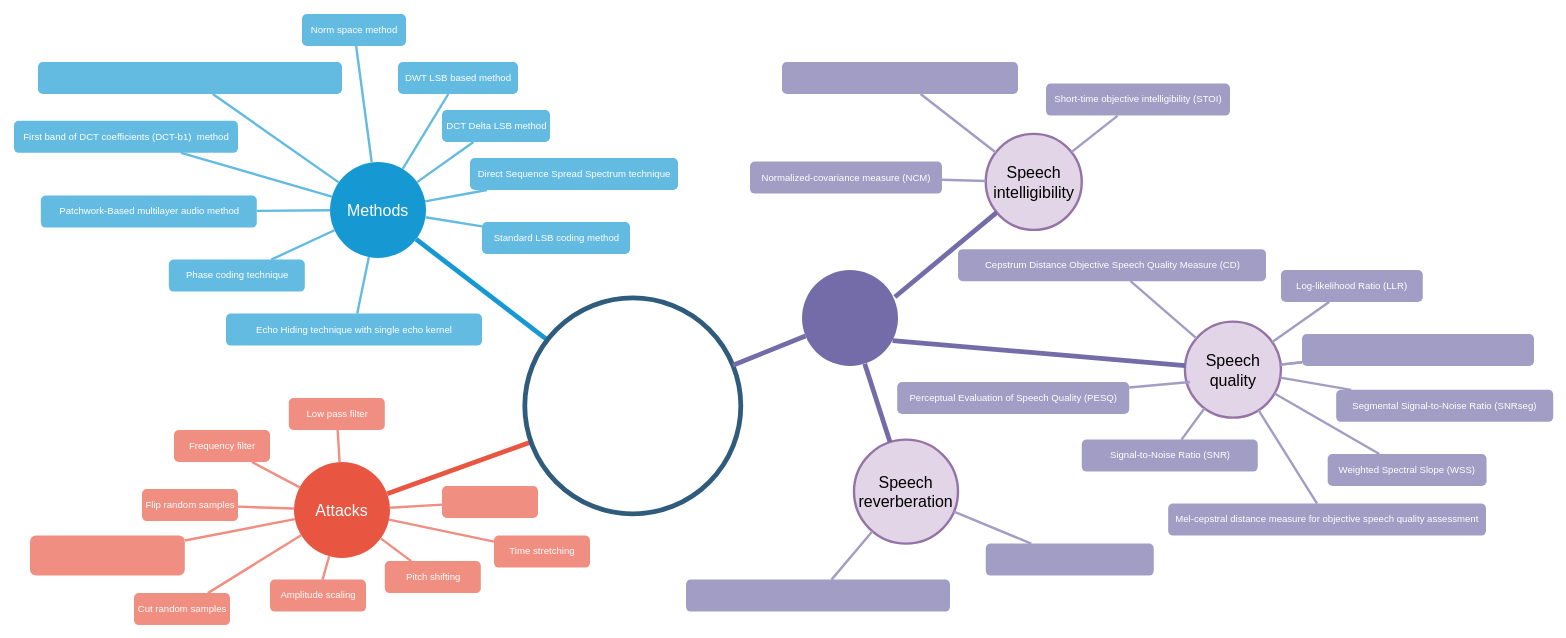
The diagram is 1566 pixels wide and 638 high, and some of its shapes have lost their labels. The box of each missing label's shape, as (x1, y1, x2, y2) in pixels:
Additive noise: (442, 486, 538, 518)
Bark spectral distortion (BSD): (985, 543, 1153, 575)
Coherence and speech intelligibility index (CSII): (782, 62, 1018, 94)
Frequency Singular Value Coefficient Modification (FSVC) method: (38, 62, 342, 94)
Frequency-weighted Segmental SNR (fwSNRseg): (1302, 334, 1534, 366)
Metrics: (802, 270, 898, 366)
Resampling (upsampling / downsampling): (30, 535, 184, 575)
Speech-to-reverberation modulation energy ratio (SRMR): (686, 579, 950, 611)
The A-Files: (522, 295, 743, 516)
